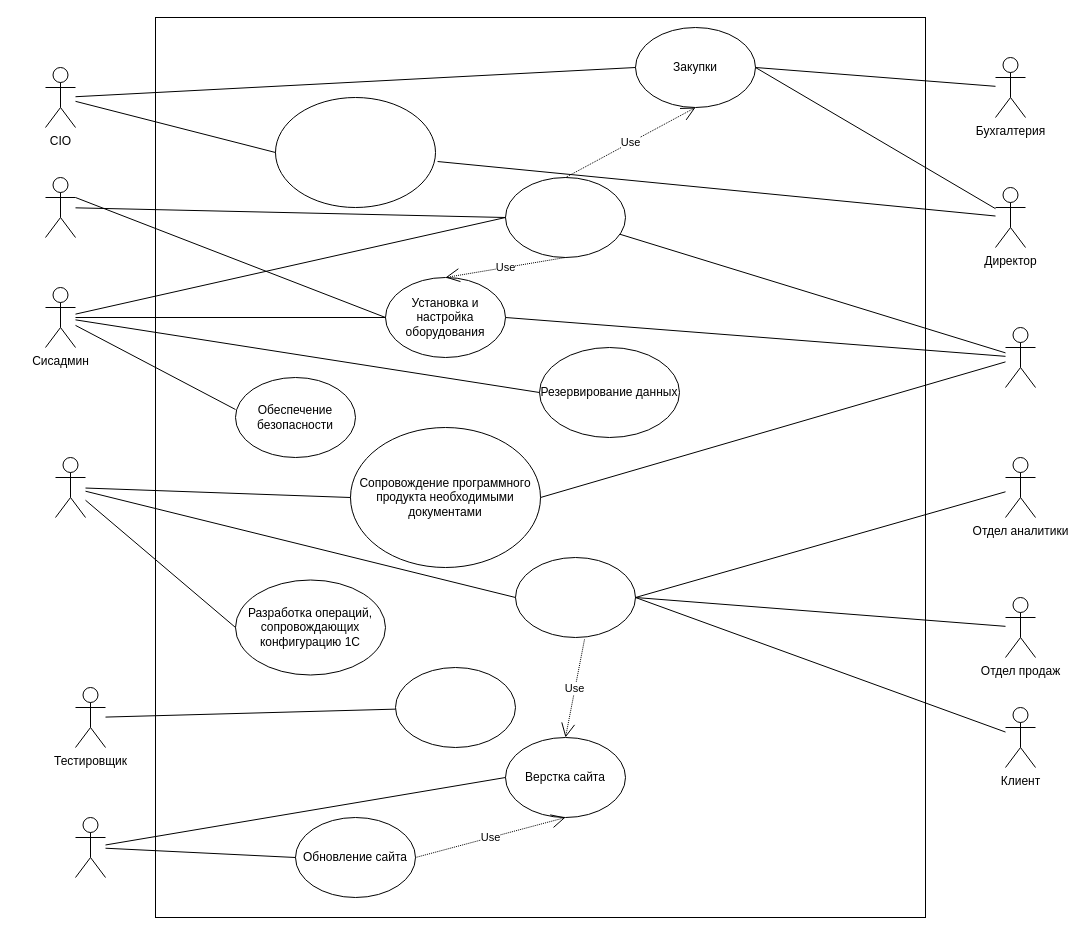
This 1086x935 diagram has some shape labels left out. Here are the shapes that lost their labels. From the top down, the centre of each, then its label:
the point at 355,152: Стратегическое планирование организации
the point at 60,207: Тех. поддержка
the point at 565,217: Устранение неисправности
the point at 1020,357: Сотрудники
the point at 70,487: 1С разработчик
the point at 575,597: Обработка заявки с сайта
the point at 455,707: Тестирование ПП
the point at 90,847: Frontend разр.
